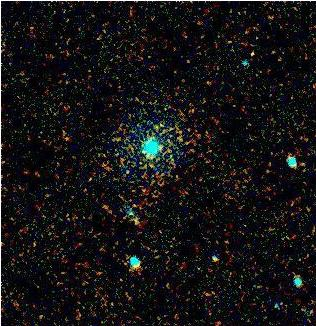star: (193, 68, 223, 98)
